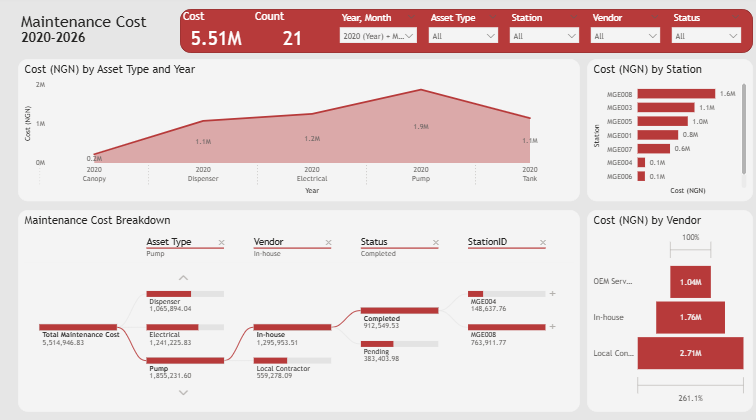

This screenshot's page, from the dashboard's own definition file:
{"tool":"powerbi","page":{"name":"Maintenance Cost","canvas":[1280,720],"ordinal":4},"visuals":[{"type":"slicer","fields":{"Values":["Maintenance.Vendor"]},"box":[982.6,21.8,136.5,70.6],"z":0,"group":"g1"},{"type":"shape","box":[302.4,21.8,962.5,73.9],"z":1000},{"type":"slicer","fields":{"Values":["Maintenance.Date.Variation.Date Hierarchy.Year","Maintenance.Date.Variation.Date Hierarchy.Month"]},"box":[561,21.8,148.8,70.6],"z":1000,"group":"g1"},{"type":"slicer","fields":{"Values":["Maintenance.Asset Type"]},"box":[709.7,21.8,136.5,70.6],"z":2000,"group":"g1"},{"type":"clusteredBarChart","fields":{"Category":["Maintenance.StationID"],"Y":["Sum(Maintenance.Cost (NGN))"]},"box":[986,105.8,278.8,238.5],"z":2000},{"type":"card","title":"Cost","fields":{"Values":["Sum(Maintenance.Cost (NGN))"]},"box":[302.4,21.8,120.9,73.9],"z":3000},{"type":"slicer","fields":{"Values":["Maintenance.StationID"]},"box":[846.1,21.8,136.5,70.6],"z":3000,"group":"g1"},{"type":"card","title":"Count","fields":{"Values":["CountNonNull(Maintenance.MaintenanceID)"]},"box":[423.3,21.8,137.7,73.9],"z":4000},{"type":"funnel","fields":{"Y":["Sum(Maintenance.Cost (NGN))"],"Category":["Maintenance.Vendor"]},"box":[986,359.5,278.8,339.3],"z":5000},{"type":"decompositionTreeVisual","title":"Maintenance Cost Breakdown","fields":{"Analyze":["_Measures.Total Maintenance Cost"],"ExplainBy":["Maintenance.Asset Type","Maintenance.Vendor","Maintenance.Status","Maintenance.StationID","Maintenance.Date.Variation.Date Hierarchy.Year","Maintenance.Date.Variation.Date Hierarchy.Month"]},"box":[30.2,359.5,944,339.3],"z":6000},{"type":"slicer","fields":{"Values":["Maintenance.Status"]},"box":[1119,21.8,135.7,70.6],"z":6001,"group":"g1"},{"type":"group","id":"g1","title":"Group 1","box":[561,21.8,692.1,70.6],"z":7000},{"type":"textbox","box":[30.2,21.8,255.3,73.9],"z":8000},{"type":"stackedAreaChart","fields":{"Category":["Maintenance.Asset Type","Maintenance.Date.Variation.Date Hierarchy.Year"],"Y":["Sum(Maintenance.Cost (NGN))"]},"box":[30.2,105.8,944,238.5],"z":8001}]}

Visuals, with their boxes in screenshot pixels (x1, y1, x2, y2), scaled from the page's 1280x720 canvas onto the 756x420 screenshot:
slicer - Maintenance.Vendor: Rect(580, 13, 661, 54)
shape: Rect(179, 13, 747, 56)
slicer - Maintenance.Date.Variation.Date Hierarchy.Year x Maintenance.Date.Variation.Date Hierarchy.Month: Rect(331, 13, 419, 54)
slicer - Maintenance.Asset Type: Rect(419, 13, 500, 54)
clusteredBarChart - Maintenance.StationID x Sum(Maintenance.Cost (NGN)): Rect(582, 62, 747, 201)
"Cost" card: Rect(179, 13, 250, 56)
slicer - Maintenance.StationID: Rect(500, 13, 580, 54)
"Count" card: Rect(250, 13, 331, 56)
funnel - Sum(Maintenance.Cost (NGN)) x Maintenance.Vendor: Rect(582, 210, 747, 408)
"Maintenance Cost Breakdown" decompositionTreeVisual: Rect(18, 210, 575, 408)
slicer - Maintenance.Status: Rect(661, 13, 741, 54)
"Group 1" group: Rect(331, 13, 740, 54)
textbox: Rect(18, 13, 169, 56)
stackedAreaChart - Maintenance.Asset Type x Maintenance.Date.Variation.Date Hierarchy.Year: Rect(18, 62, 575, 201)
